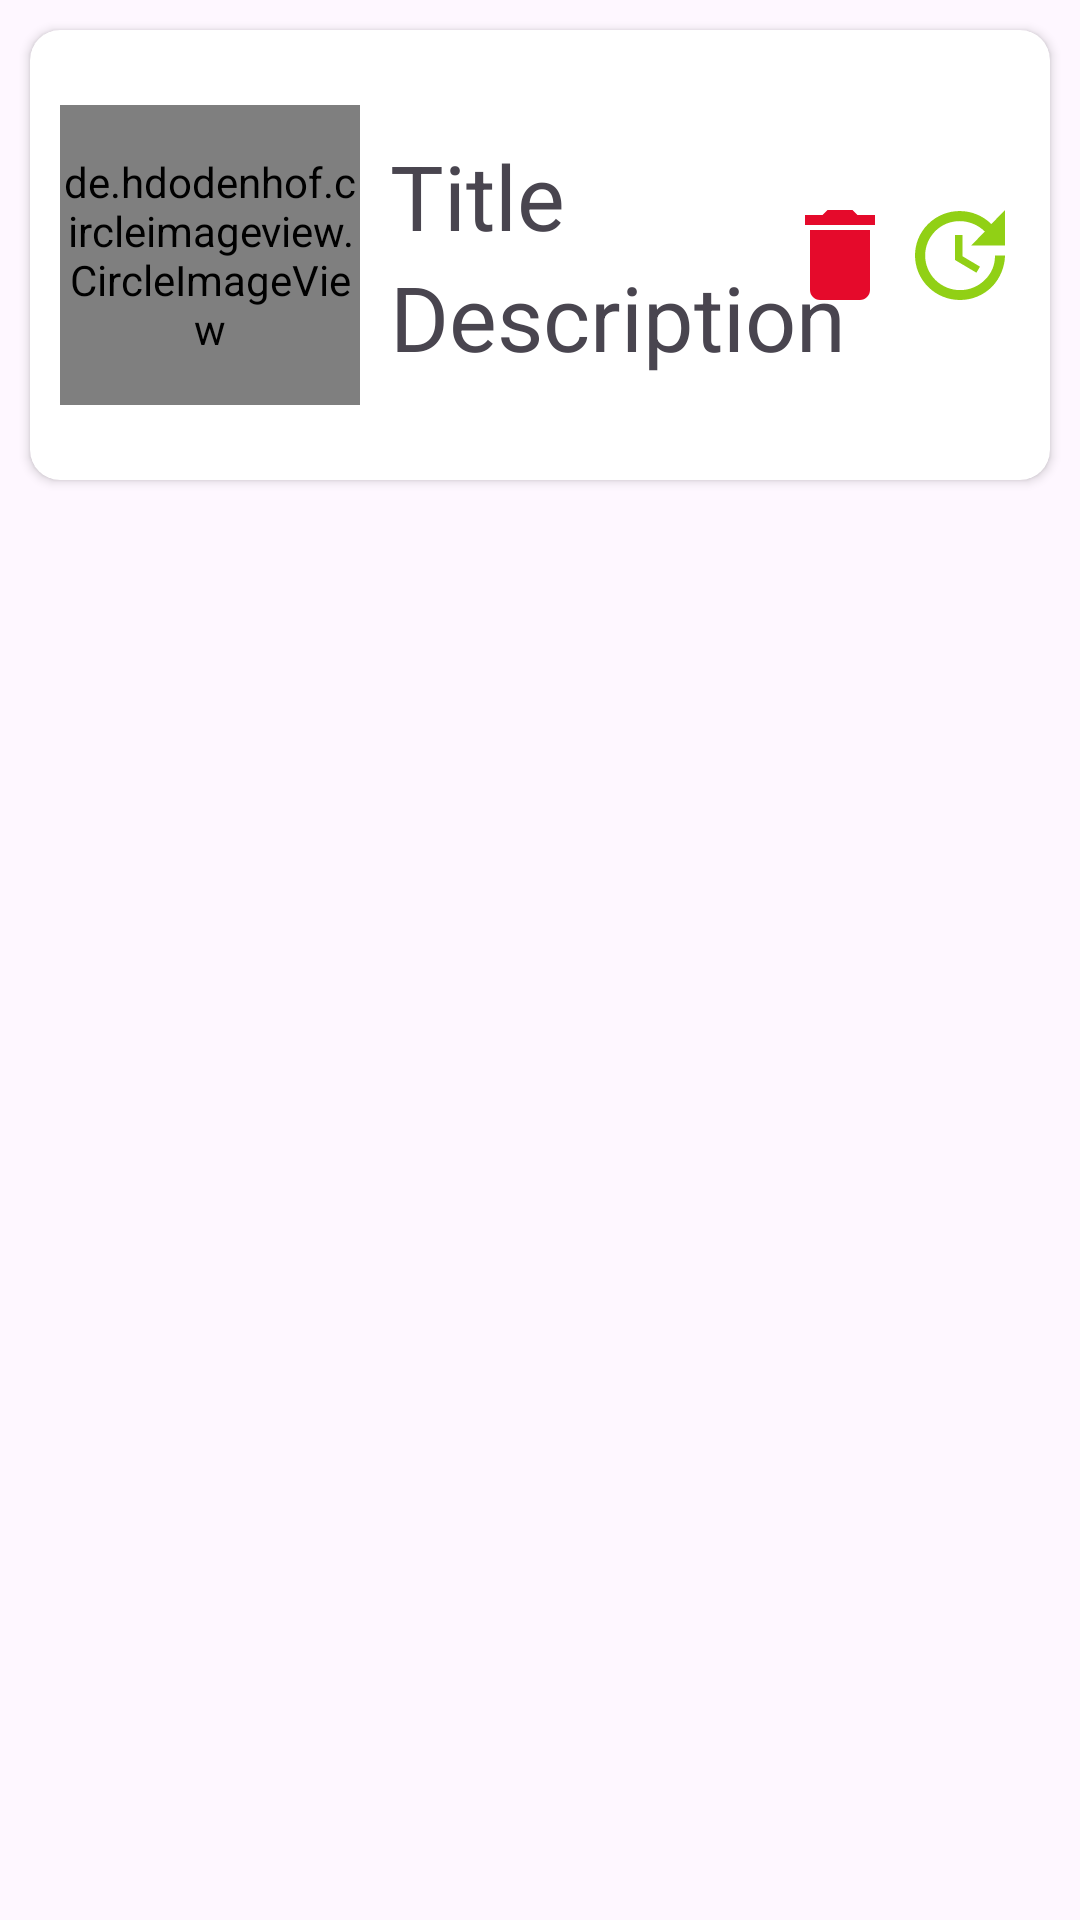

Where icons sit on this 1080px x 1920px app screen, as (x1, y1, x2, y2):
delete: (805, 210, 875, 300)
update: (915, 210, 1005, 300)
